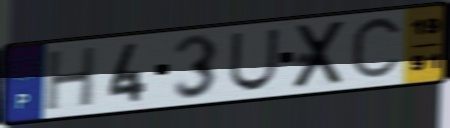3: (172, 32, 222, 101)
4: (106, 40, 149, 105)
C: (348, 13, 405, 86)
H: (42, 44, 99, 114)
U: (226, 27, 282, 94)
X: (289, 17, 350, 91)
